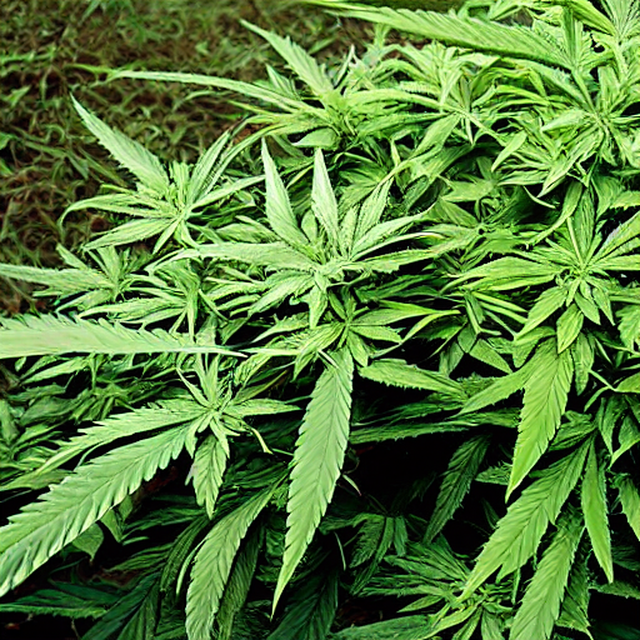Marijuana Plant: (46, 2, 425, 639)
